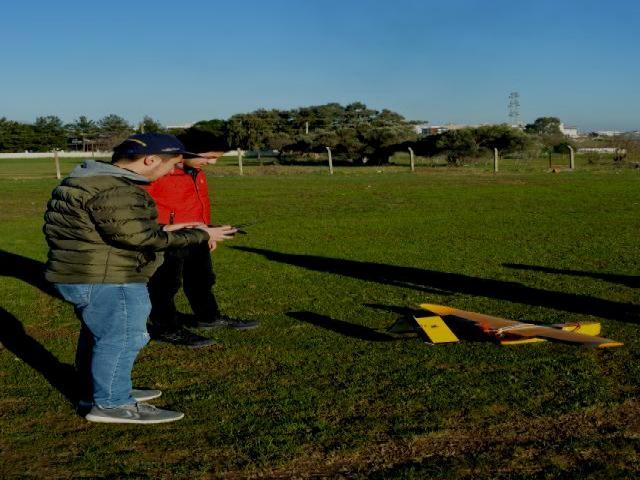iha: (390, 294, 638, 367)
